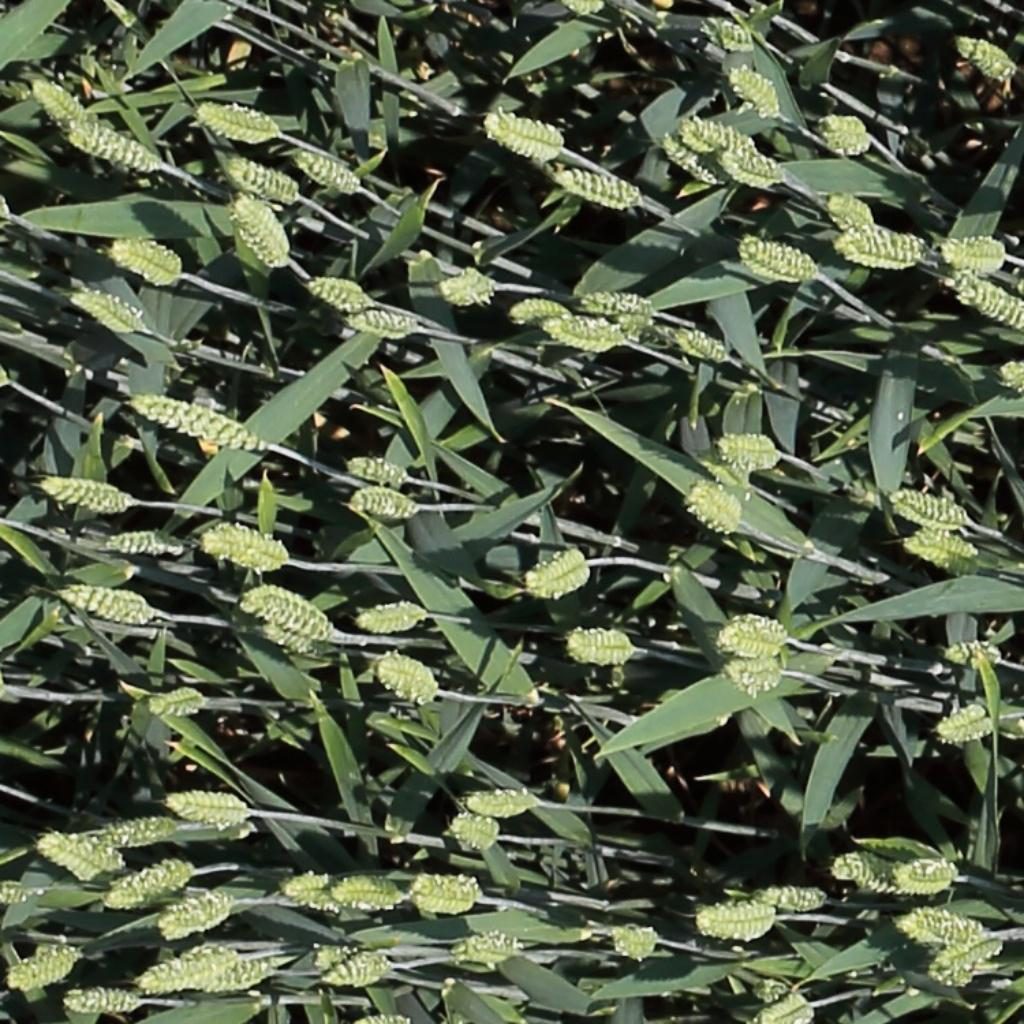0-0: (135, 394, 267, 450), (66, 118, 171, 181), (119, 943, 249, 992), (105, 851, 206, 914), (939, 265, 1024, 337), (32, 822, 117, 893), (230, 191, 300, 276), (891, 902, 991, 961), (229, 581, 334, 637), (823, 222, 927, 276), (30, 76, 110, 145), (542, 163, 647, 213), (692, 898, 786, 952), (156, 885, 232, 947), (884, 487, 980, 536), (55, 575, 155, 622), (894, 528, 983, 579), (486, 113, 568, 167), (924, 936, 1006, 990), (317, 869, 411, 916), (705, 611, 798, 658), (198, 520, 286, 569), (196, 102, 286, 149), (39, 477, 146, 516), (103, 812, 201, 854), (713, 645, 795, 695), (160, 789, 260, 829), (559, 623, 640, 672), (521, 550, 591, 605), (502, 292, 587, 337), (822, 849, 907, 894), (430, 262, 509, 310), (445, 927, 530, 971), (810, 109, 880, 161), (700, 444, 763, 501), (407, 871, 483, 918), (740, 236, 823, 279), (541, 318, 628, 359), (751, 883, 840, 923), (660, 131, 727, 184), (335, 308, 425, 347), (938, 230, 1011, 278), (343, 597, 435, 635), (225, 155, 303, 199), (448, 812, 517, 861), (713, 432, 790, 475), (70, 288, 146, 331), (59, 982, 147, 1019), (345, 484, 424, 525), (283, 867, 348, 916), (681, 117, 763, 154), (729, 64, 785, 118), (688, 479, 745, 532), (886, 857, 959, 898), (461, 787, 546, 822), (302, 272, 376, 312), (294, 147, 361, 191), (375, 658, 438, 704), (109, 241, 184, 278), (957, 35, 1018, 80), (9, 950, 81, 988), (605, 922, 667, 965), (932, 705, 996, 746), (197, 960, 286, 989), (828, 189, 880, 236), (301, 943, 406, 965), (748, 993, 820, 1024), (102, 526, 182, 552), (944, 637, 1005, 671), (722, 151, 786, 182), (673, 331, 731, 365), (345, 456, 413, 484), (262, 622, 315, 656), (703, 17, 757, 50), (322, 958, 391, 983), (578, 293, 655, 314), (993, 352, 1024, 397), (147, 693, 207, 714), (0, 881, 48, 906)
